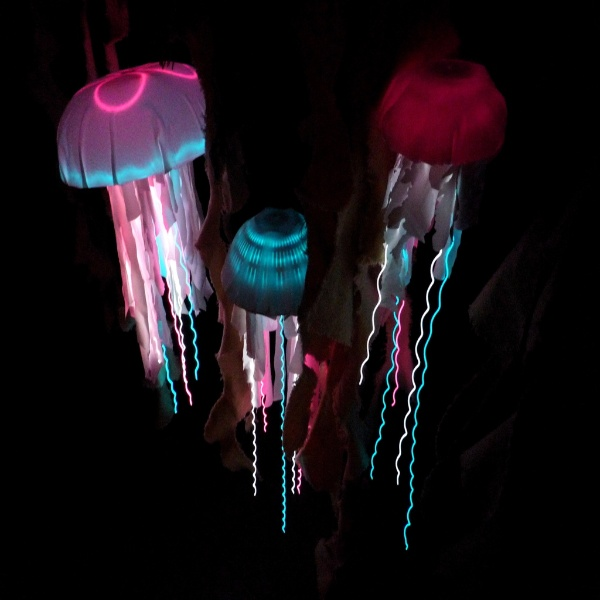Jellyfish: (369, 52, 508, 551), (59, 62, 212, 422), (213, 203, 357, 537)
